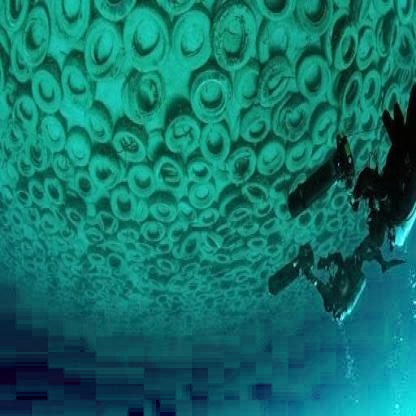tire: (192, 45, 236, 137), (110, 111, 162, 185), (119, 13, 178, 78), (78, 16, 130, 82), (72, 137, 124, 194), (154, 144, 196, 214), (203, 191, 252, 247), (180, 12, 216, 78), (28, 62, 70, 114), (249, 133, 292, 182), (104, 188, 145, 232), (260, 49, 289, 103), (217, 142, 258, 180)
